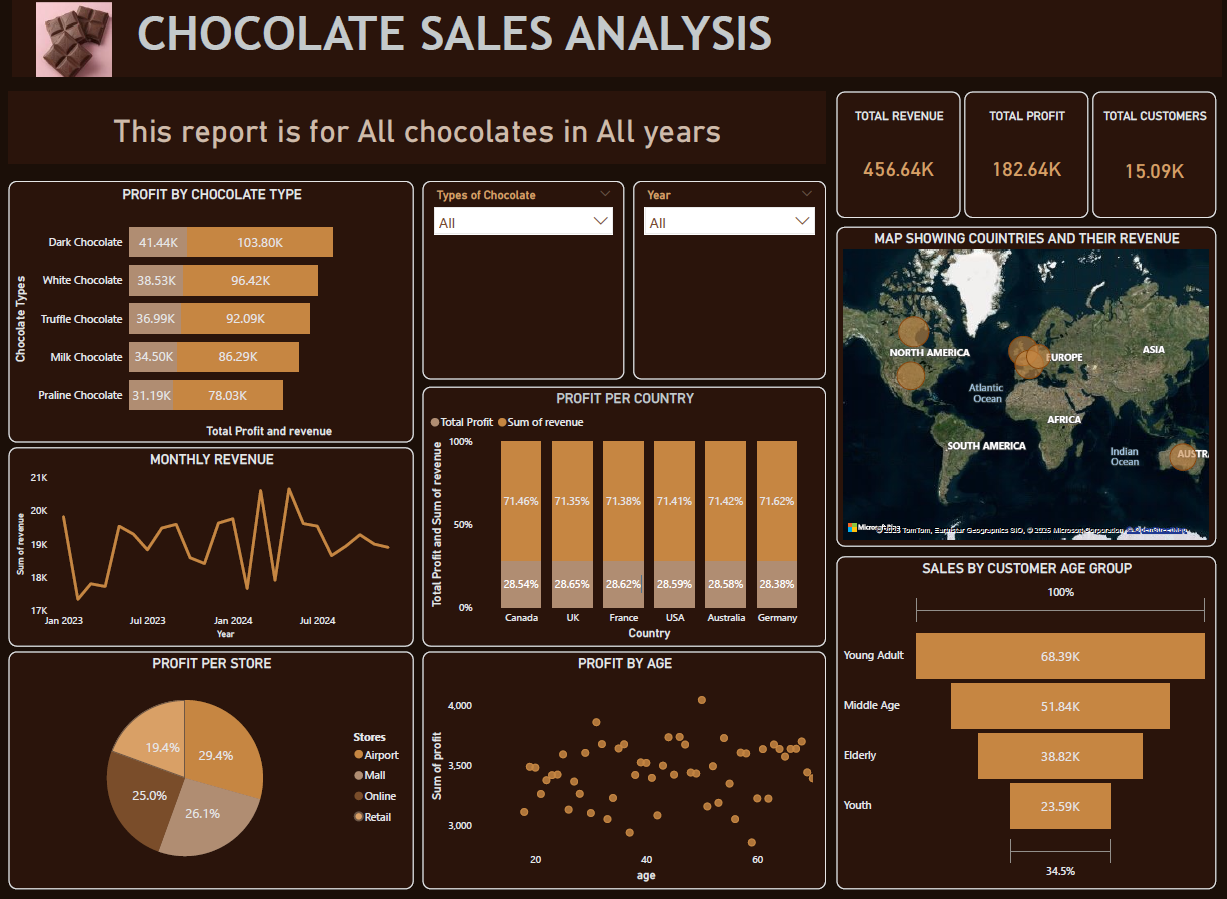

The page's visual inventory and layout, read from the dashboard file:
{"tool":"powerbi","page":{"name":"Page 1","canvas":[1500,1100],"ordinal":0},"visuals":[{"type":"barChart","title":"PROFIT BY CHOCOLATE TYPE","fields":{"Category":["worksheet.chocolate_types"],"Y":["Sum(worksheet.profit)","Sum(worksheet.revenue)"]},"box":[11.3,220.3,493.7,318.4],"z":0},{"type":"card","title":"TOTAL CUSTOMERS","fields":{"Values":["Count(worksheet.customer_id)"]},"box":[1333.1,111,151.2,154.4],"z":1000},{"type":"card","title":"TOTAL PROFIT","fields":{"Values":["Sum(worksheet.profit)"]},"box":[1177.1,111,151.2,154.4],"z":2000},{"type":"lineChart","title":"MONTHLY REVENUE","fields":{"Y":["Sum(worksheet.revenue)"],"Category":["worksheet.order_date.Variation.Date Hierarchy.Year","worksheet.order_date.Variation.Date Hierarchy.Quarter","worksheet.order_date.Variation.Date Hierarchy.Month"]},"box":[11.3,545.1,493.7,242.8],"z":3000},{"type":"hundredPercentStackedColumnChart","title":"PROFIT PER COUNTRY","fields":{"Y":["Sum(worksheet.profit)","Sum(worksheet.revenue)"],"Category":["worksheet.country"]},"box":[516.2,471.2,492.1,316.8],"z":4000},{"type":"map","title":"MAP SHOWING COUINTRIES AND THEIR REVENUE","fields":{"Category":["worksheet.country"],"Size":["Sum(worksheet.revenue)"]},"box":[1020.6,275.9,463.3,390],"z":5000},{"type":"scatterChart","title":"PROFIT BY AGE","fields":{"X":["worksheet.age"],"Y":["Sum(worksheet.profit)"]},"box":[516.2,794.4,492.1,289.5],"z":6000},{"type":"funnel","title":"SALES BY CUSTOMER AGE GROUP","fields":{"Category":["worksheet.age_group"],"Y":["Sum(worksheet.profit)"]},"box":[1020.6,677.6,463.3,406.7],"z":7000},{"type":"pieChart","title":"PROFIT PER STORE","fields":{"Y":["Sum(worksheet.profit)"],"Category":["worksheet.store_type"]},"box":[11.3,794.4,493.7,289.5],"z":8000},{"type":"slicer","title":"REVENUE AND PROFIT BY CHOCOLATE TYPE","fields":{"Values":["worksheet.chocolate_types"]},"box":[516.2,220.3,246,241.2],"z":9000},{"type":"textbox","box":[16.1,0,1474.6,93.3],"z":10000},{"type":"card","title":"TOTAL REVENUE","fields":{"Values":["Sum(worksheet.revenue)"]},"box":[1021.1,111,151.2,154.4],"z":11000},{"type":"slicer","title":"REVENUE AND PROFIT BY CHOCOLATE TYPE","fields":{"Values":["worksheet.order_date.Variation.Date Hierarchy.Year"]},"box":[773.5,220.3,234.8,241.2],"z":12000},{"type":"card","fields":{"Values":["worksheet.InteractiveTitle"]},"box":[11.3,111,997,88.4],"z":13000},{"type":"image","box":[16.1,1.6,147.9,91.7],"z":14000}]}

Visuals, with their boxes in screenshot pixels (x1, y1, x2, y2), scaled from the page's 1500x1100 canvas onto the 1227x899 screenshot:
"PROFIT BY CHOCOLATE TYPE" barChart: (9,180,413,440)
"TOTAL CUSTOMERS" card: (1090,91,1214,217)
"TOTAL PROFIT" card: (963,91,1087,217)
"MONTHLY REVENUE" lineChart: (9,445,413,644)
"PROFIT PER COUNTRY" hundredPercentStackedColumnChart: (422,385,825,644)
"MAP SHOWING COUINTRIES AND THEIR REVENUE" map: (835,225,1214,544)
"PROFIT BY AGE" scatterChart: (422,649,825,886)
"SALES BY CUSTOMER AGE GROUP" funnel: (835,554,1214,886)
"PROFIT PER STORE" pieChart: (9,649,413,886)
"REVENUE AND PROFIT BY CHOCOLATE TYPE" slicer: (422,180,623,377)
textbox: (13,0,1219,76)
"TOTAL REVENUE" card: (835,91,959,217)
"REVENUE AND PROFIT BY CHOCOLATE TYPE" slicer: (633,180,825,377)
card - worksheet.InteractiveTitle: (9,91,825,163)
image: (13,1,134,76)
